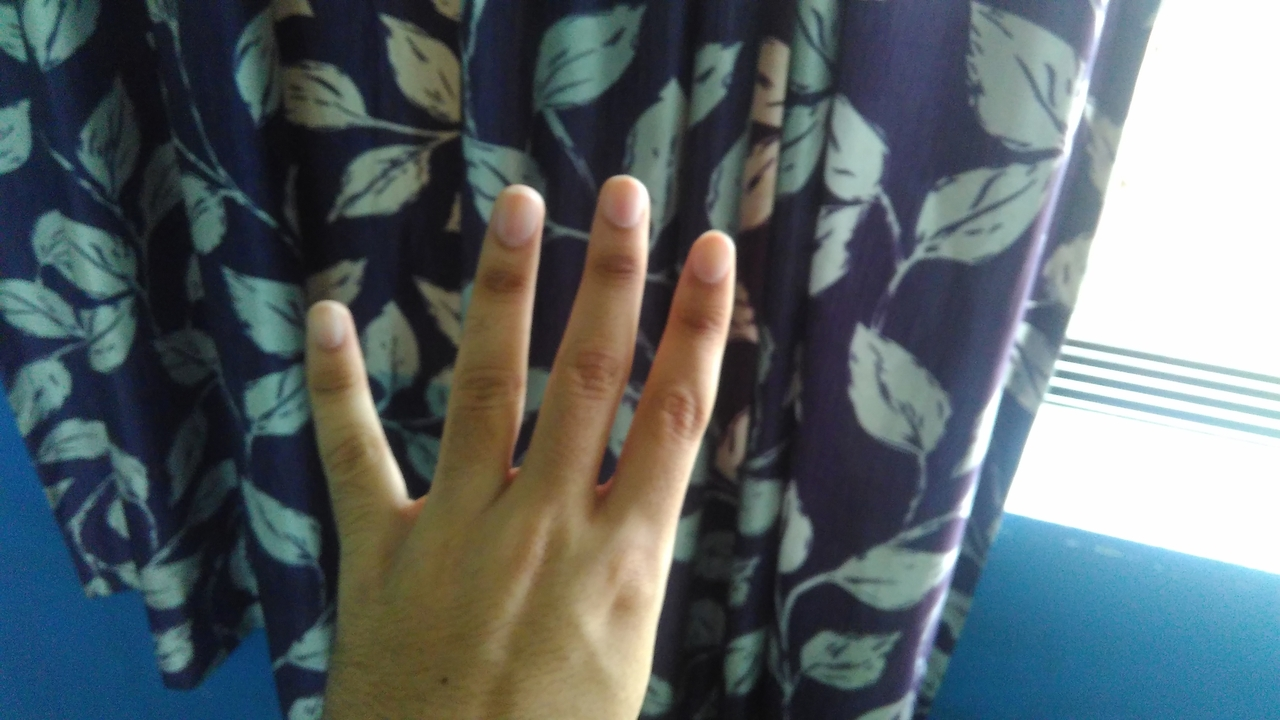fingertip: (482, 174, 550, 248), (586, 164, 650, 240), (676, 222, 738, 292), (298, 298, 358, 364)
